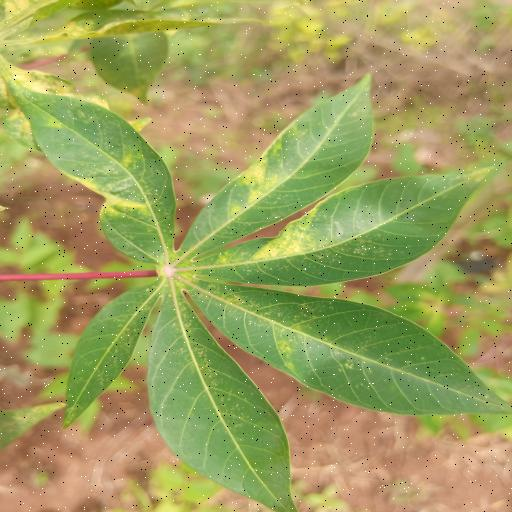Cassava_Mosaic: (0, 73, 512, 510)
